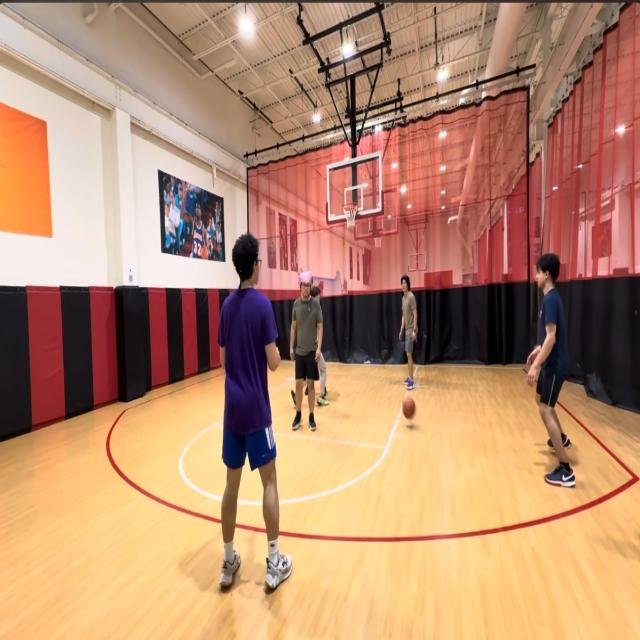Basketball: (403, 396, 417, 420)
Basketball Rim: (343, 202, 358, 228)
